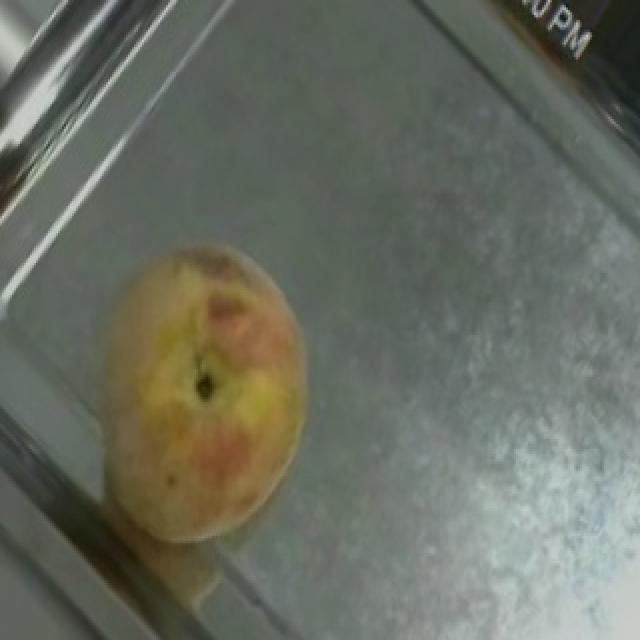Fruit: (48, 196, 356, 580)
